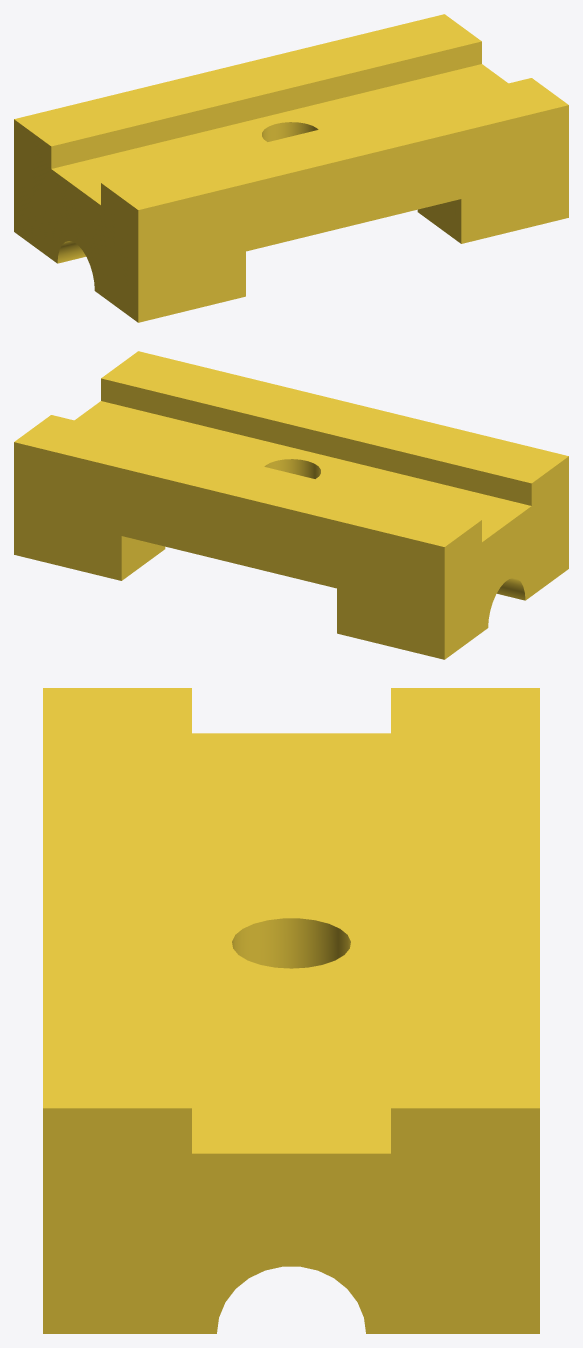
Rendered from asset.glb.
3 views of the same model, one above another, from view 1: azimuth 30°, elevation 25°; view 2: azimuth 150°, elevation 25°; view 3: azimuth 270°, elevation 25° (orthographic). The views are drawn at different scales.
Parts seen in each view (by area): view 1: Solid1; view 2: Solid1; view 3: Solid1.
Part boxes in pixels (x1,y1,x2,y2): Solid1: (14, 14, 568, 322); Solid1: (14, 351, 568, 659); Solid1: (43, 688, 539, 1333).
Bounding box in the file's own units: 0.1 × 0.025 × 0.05.
